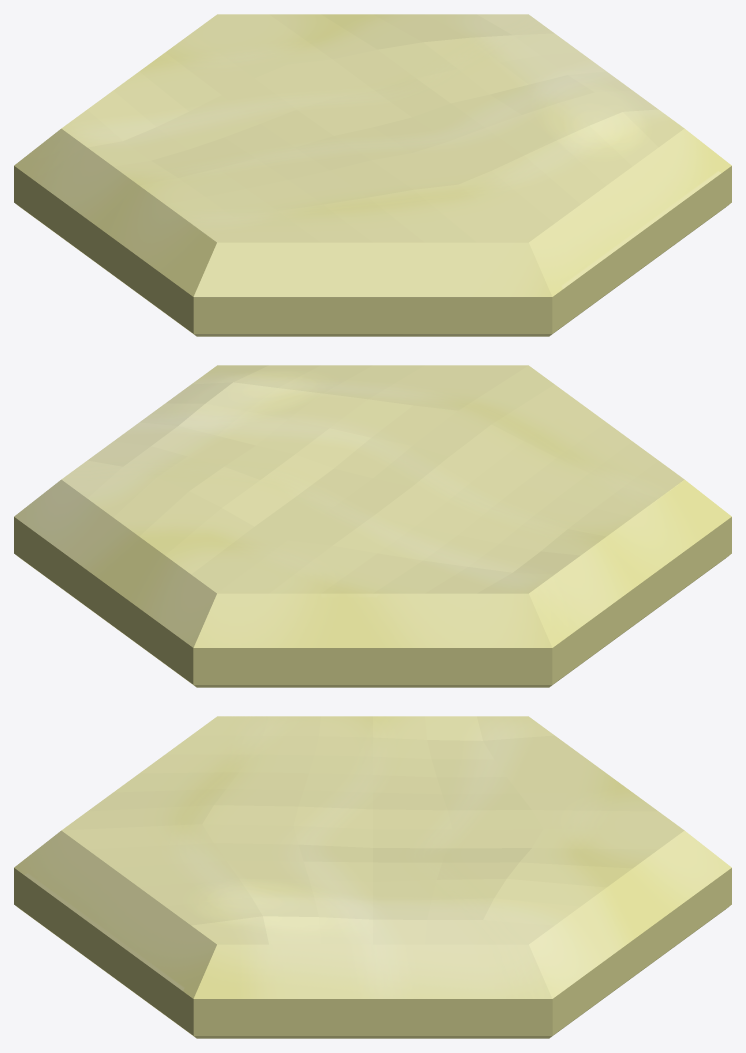
The model's file is sand.glb.
3 renders of one model, top to bottom at view 1: azimuth 30°, elevation 25°; view 2: azimuth 150°, elevation 25°; view 3: azimuth 270°, elevation 25°, orthographic.
Parts seen in each view (by area): view 1: Cylinder; view 2: Cylinder; view 3: Cylinder.
Part boxes in pixels (x1,y1,x2,y2): Cylinder: (14,14,731,336); Cylinder: (14,365,731,687); Cylinder: (14,716,731,1038).
Bounding box in the file's own units: 1.73 × 0.2714 × 2.
Materials: 1 (1 with a texture image).
